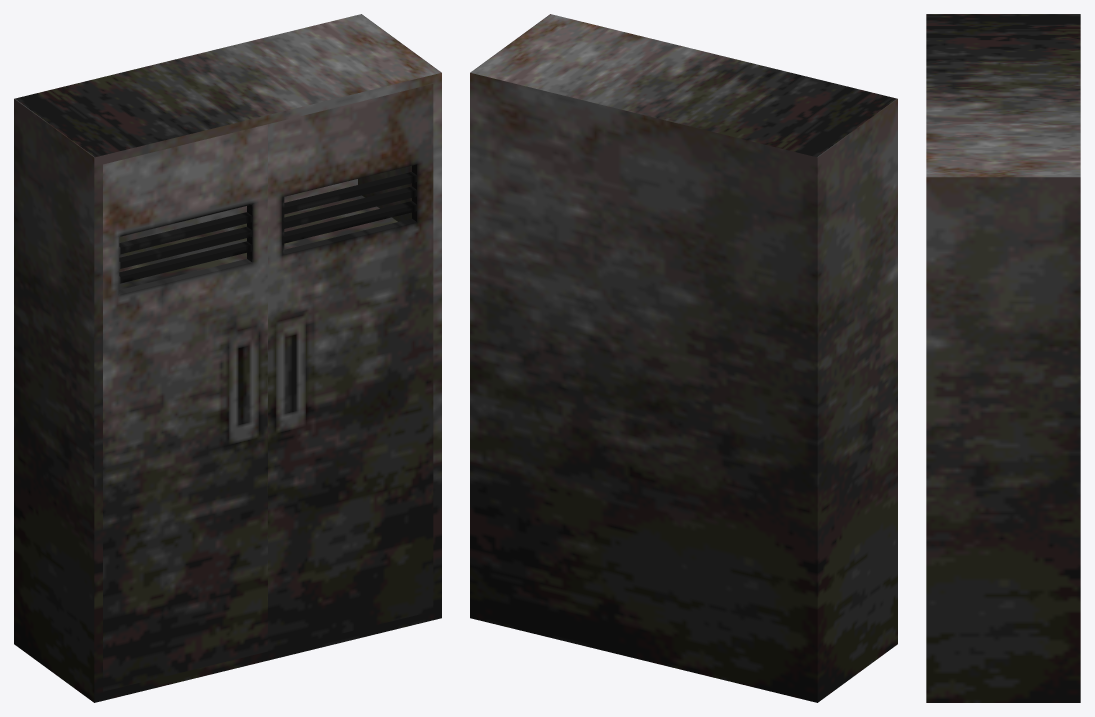
Rendered from Locker.fbx.
3 views of the same model, side by side, from view 1: azimuth 30°, elevation 25°; view 2: azimuth 150°, elevation 25°; view 3: azimuth 270°, elevation 25° (orthographic). The views are drawn at different scales.
Visible parts, largest first — view 1: Locker; view 2: Locker; view 3: Locker.
Boxes of the visible parts, x1,y1,x2,y2 form: Locker: [14, 14, 441, 702]; Locker: [470, 14, 897, 702]; Locker: [926, 14, 1080, 702].
Size of the model in its own units: 240 by 360 by 96.
